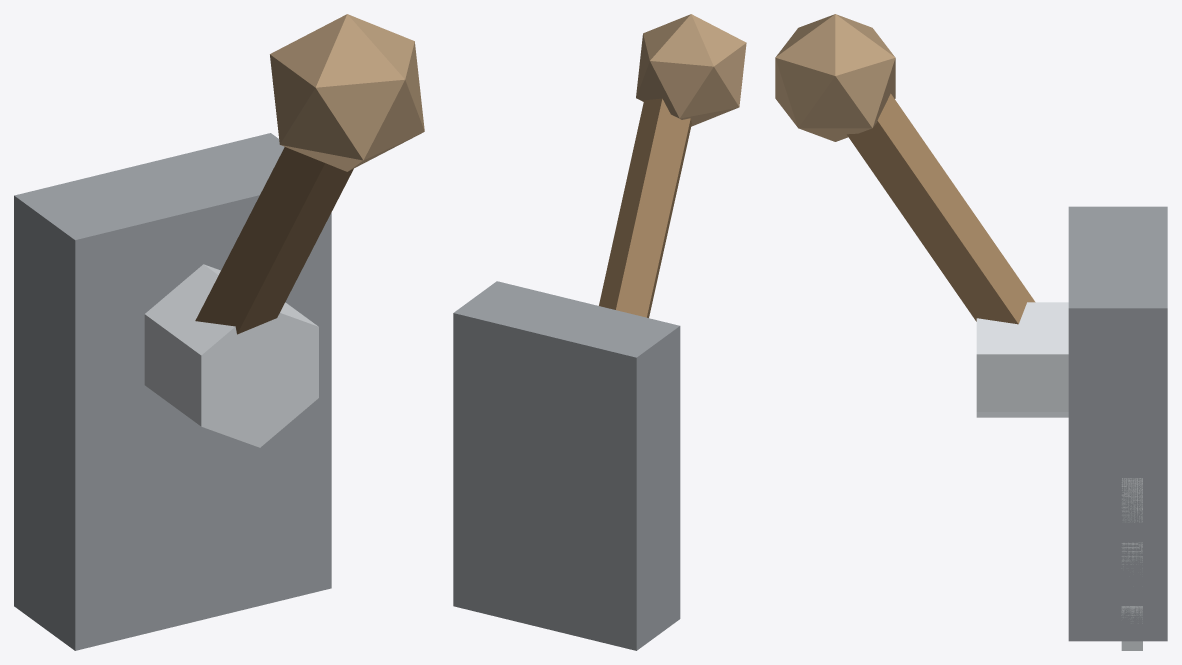
The model's file is dungeon_lever.glb.
3 views of the same model, side by side, from view 1: azimuth 30°, elevation 25°; view 2: azimuth 150°, elevation 25°; view 3: azimuth 270°, elevation 25° (orthographic). The views are drawn at different scales.
Parts seen in each view (by area): view 1: mount, pivot, grip, handle; view 2: mount, handle, grip; view 3: mount, handle, grip, pivot, chain_2.
Boxes of the visible parts, bbox=[...] form: mount: bbox=[14, 133, 331, 650]; pivot: bbox=[144, 264, 318, 447]; grip: bbox=[270, 14, 424, 171]; handle: bbox=[195, 147, 353, 334]; mount: bbox=[453, 281, 680, 650]; handle: bbox=[599, 98, 691, 317]; grip: bbox=[636, 14, 746, 126]; mount: bbox=[1068, 206, 1167, 641]; handle: bbox=[847, 93, 1035, 324]; grip: bbox=[775, 14, 895, 141]; pivot: bbox=[976, 302, 1068, 417]; chain_2: bbox=[1121, 478, 1142, 522].
Size of the model in its own units: 0.34 by 0.915 by 0.5551.
